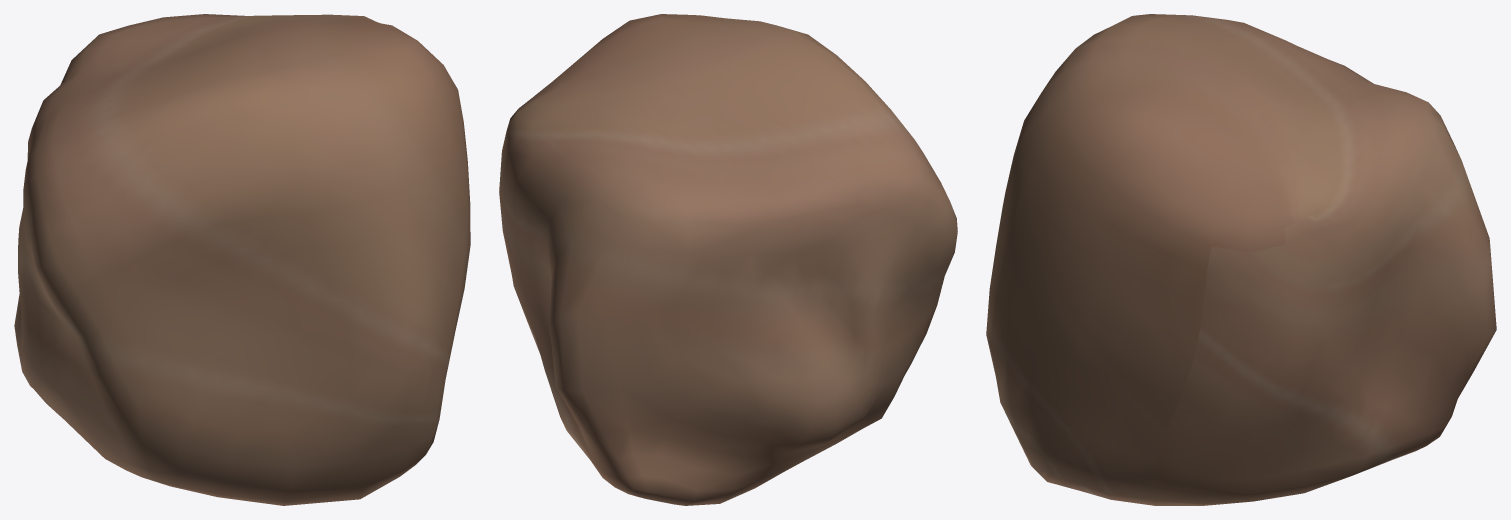
File: Stone2_Model_Zone3.fbx
3 views of the same model, side by side, from view 1: azimuth 30°, elevation 25°; view 2: azimuth 150°, elevation 25°; view 3: azimuth 270°, elevation 25° (orthographic). The views are drawn at different scales.
Visible parts, largest first — view 1: Object002; view 2: Object002; view 3: Object002.
Part boxes in pixels (<box>): Object002: <box>14,14,470,505</box>; Object002: <box>499,14,957,505</box>; Object002: <box>986,14,1496,505</box>.
Size of the model in its own units: 177 by 163 by 178.
